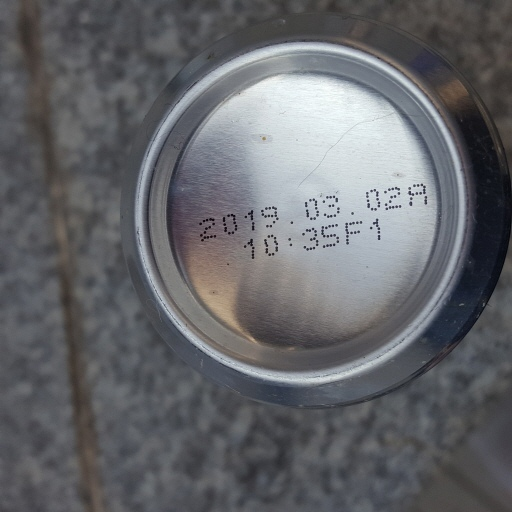Metal_0: (117, 16, 512, 411)
